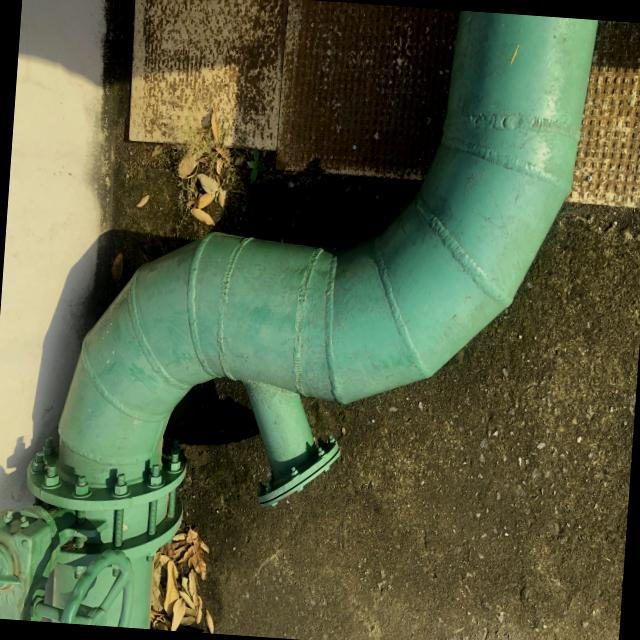gas: (38, 226, 332, 640), (323, 2, 599, 420)
